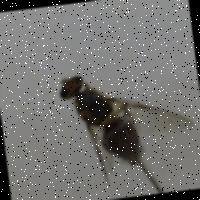Oriental-fruit-fly: (53, 59, 189, 189)
